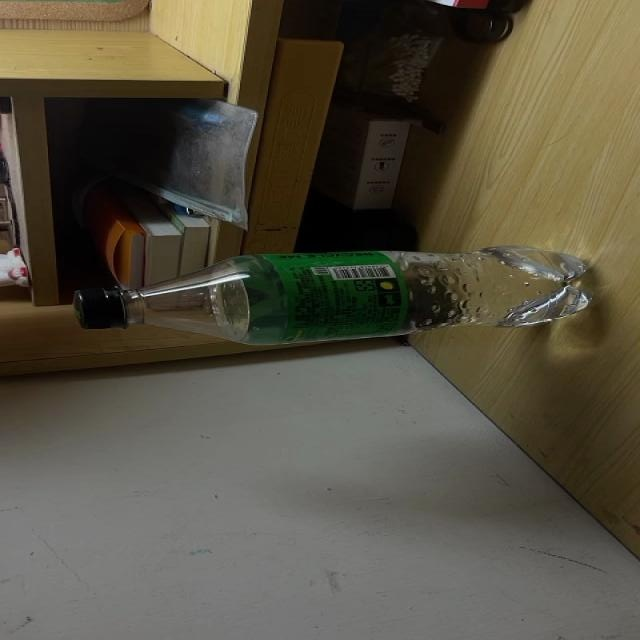Sprite: (71, 246, 594, 343)
